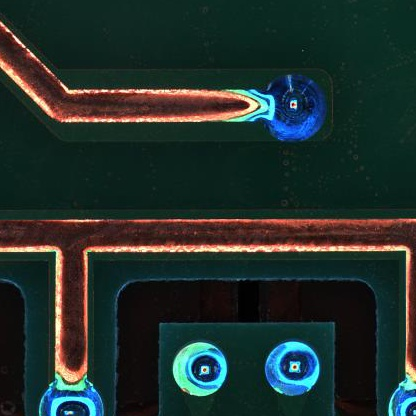spot: (264, 72, 327, 143), (263, 341, 321, 397), (171, 341, 227, 397)
